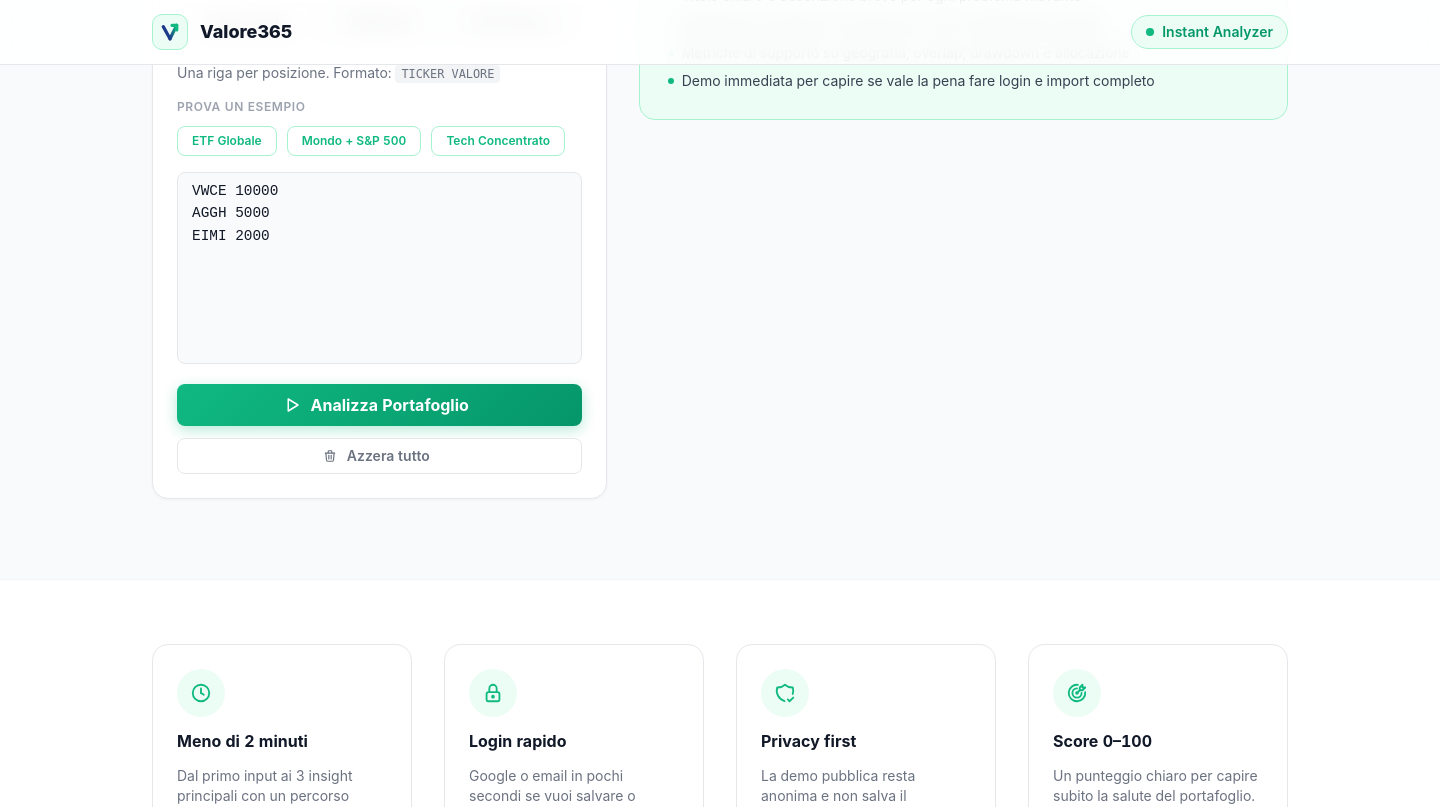
Test: InstantPortfolioAnalyzerPage › shows parse and unresolved issues from API error details
(page scrolled)
Click the button "Analizza Portafoglio".
click(379, 405)  # box 177,384 -> 582,426
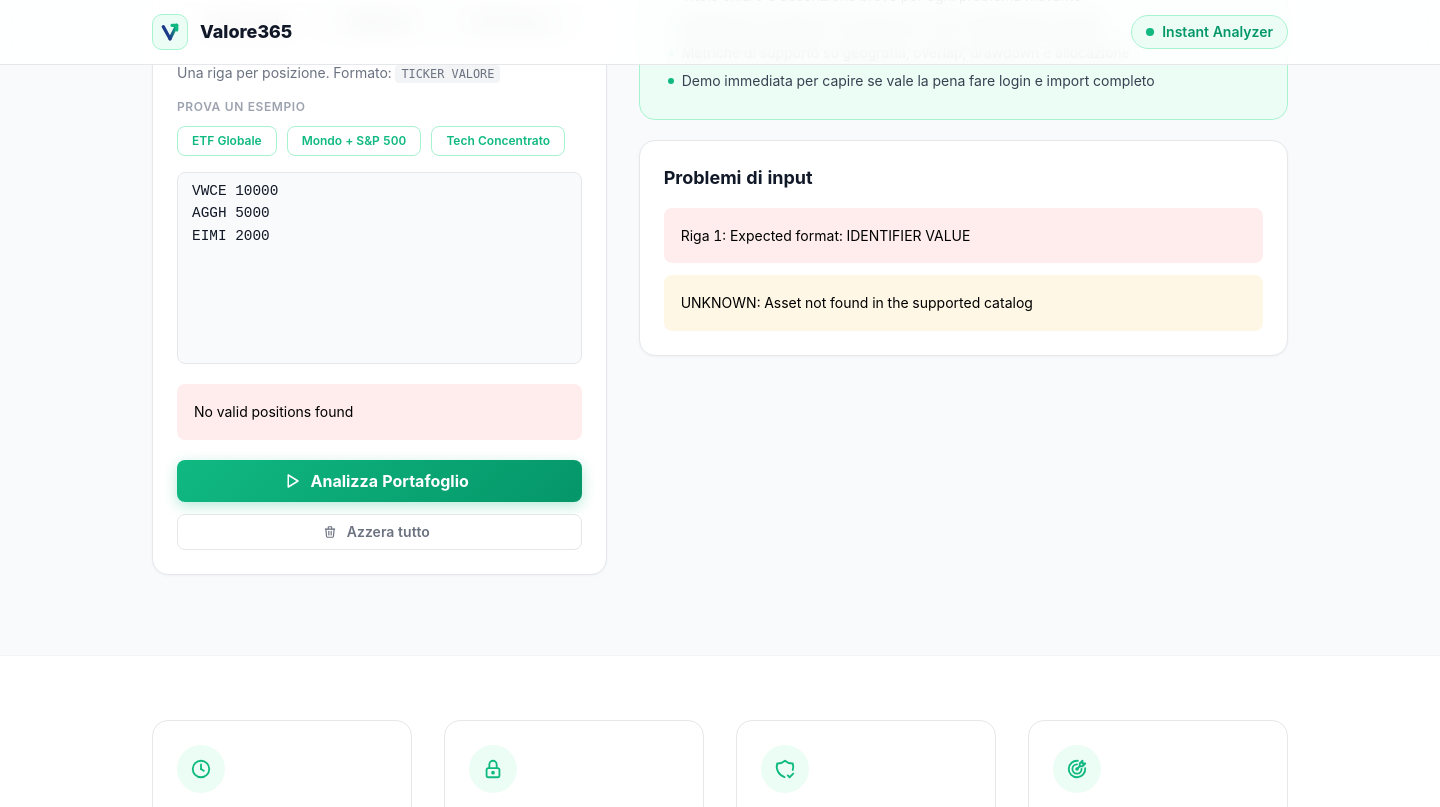
Check: the text "No valid positions found" is shown, box 194,403 -> 353,420
Check: the text "Riga 1: Expected format: IDENTIFIER VALUE" is shown, box 681,226 -> 970,244
Check: the text "UNKNOWN: Asset not found in the supported catalog" is shown, box 681,294 -> 1033,311
